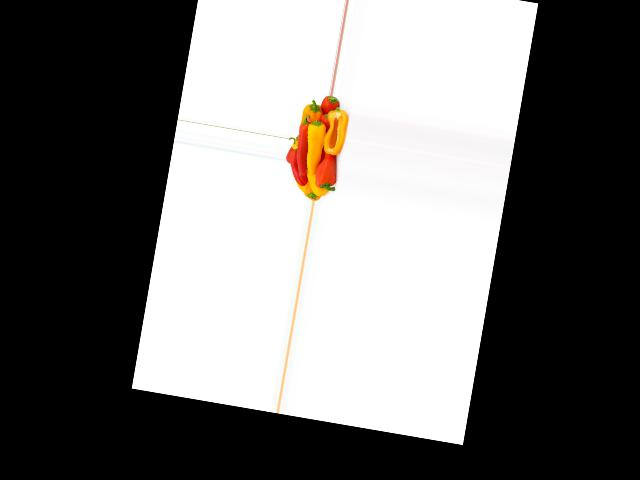bell_pepper: (314, 93, 340, 126)
